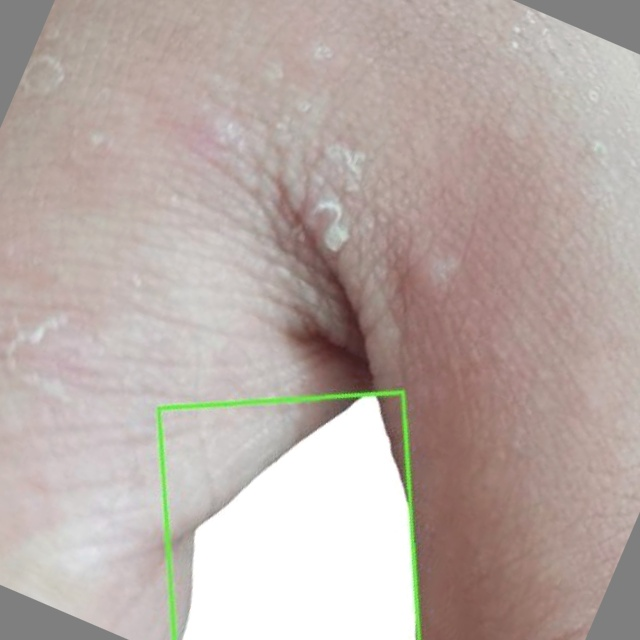Scabies: (159, 392, 419, 639)
